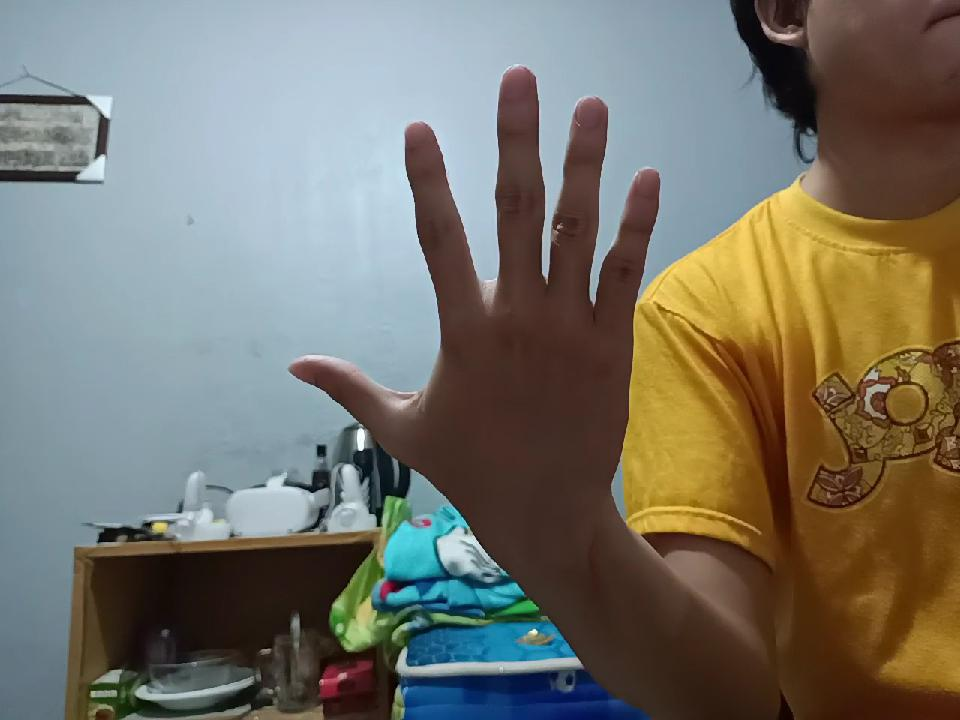paper: (319, 102, 646, 522)
